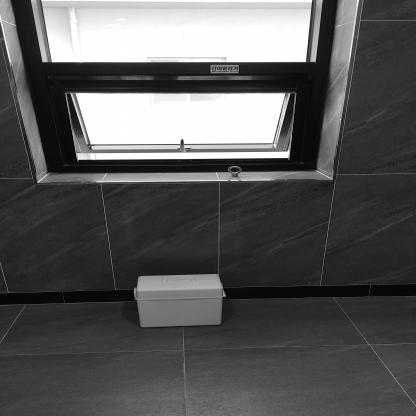DDL: (136, 276, 225, 329)
